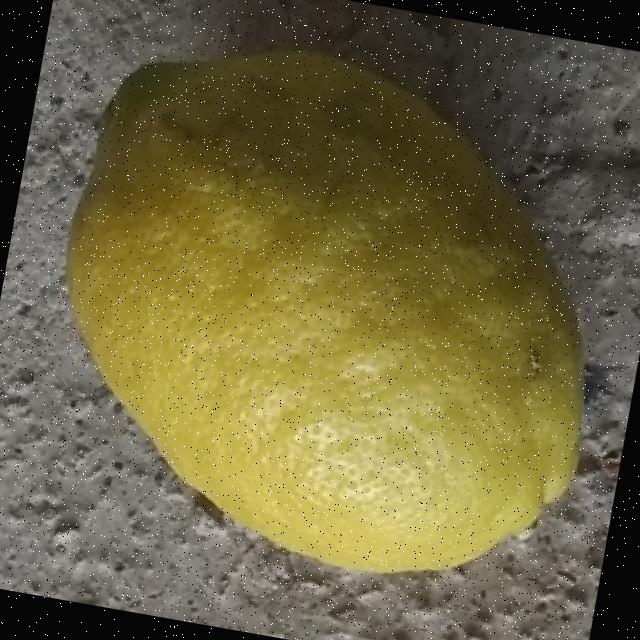Ripe: (9, 9, 640, 614)
